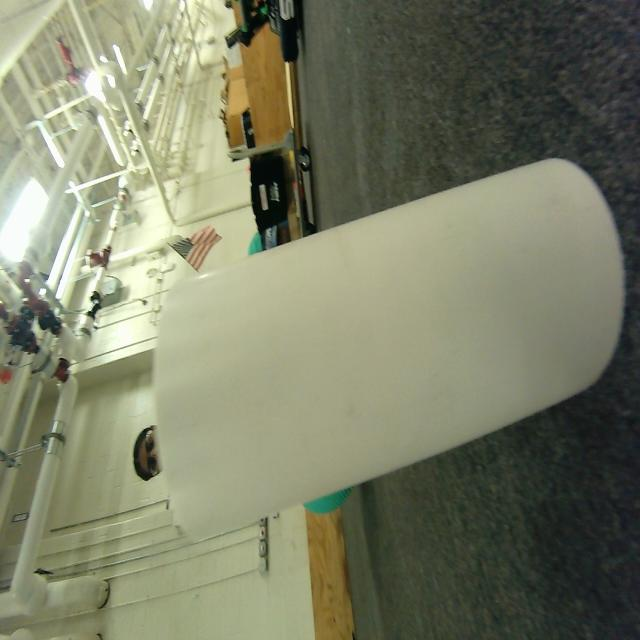coral: (138, 144, 633, 559)
